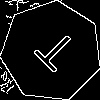T: (26, 26, 81, 81)
